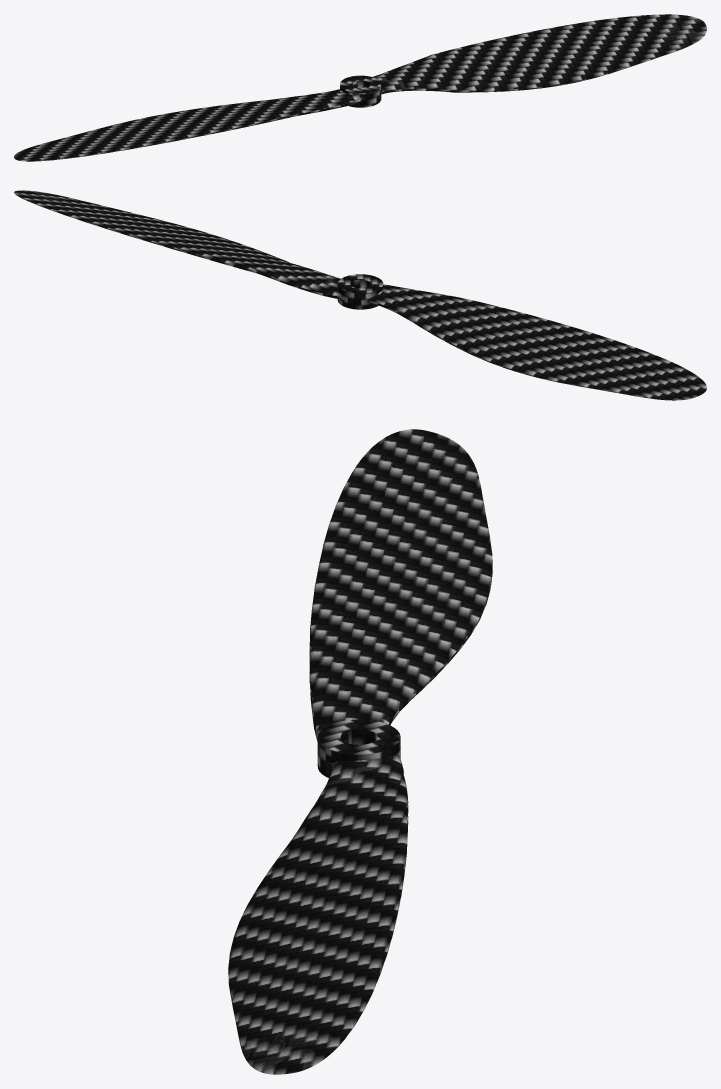
File: 1340_ccw.dae
3 views of the same model, one above another, from view 1: azimuth 30°, elevation 25°; view 2: azimuth 150°, elevation 25°; view 3: azimuth 270°, elevation 25° (orthographic). The views are drawn at different scales.
Visible parts, largest first — view 1: Propeller_1340; view 2: Propeller_1340; view 3: Propeller_1340.
Boxes of the visible parts, x1,y1,x2,y2 form: Propeller_1340: (14, 14, 706, 161); Propeller_1340: (14, 190, 706, 400); Propeller_1340: (228, 429, 492, 1074).
Size of the model in its own units: 0.329 by 0.0573 by 0.0102.
1 material, 1 textured.
